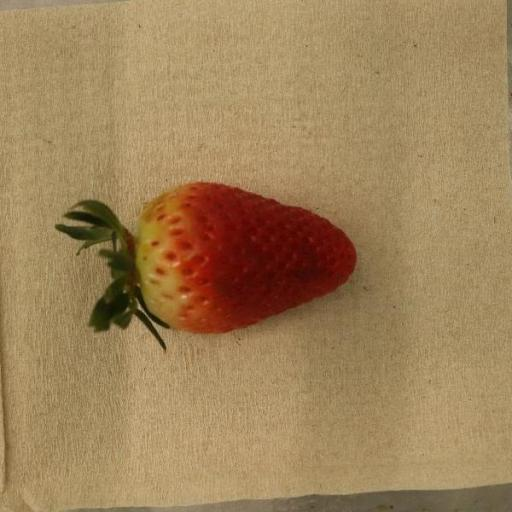Strawberry: (55, 182, 358, 334)
